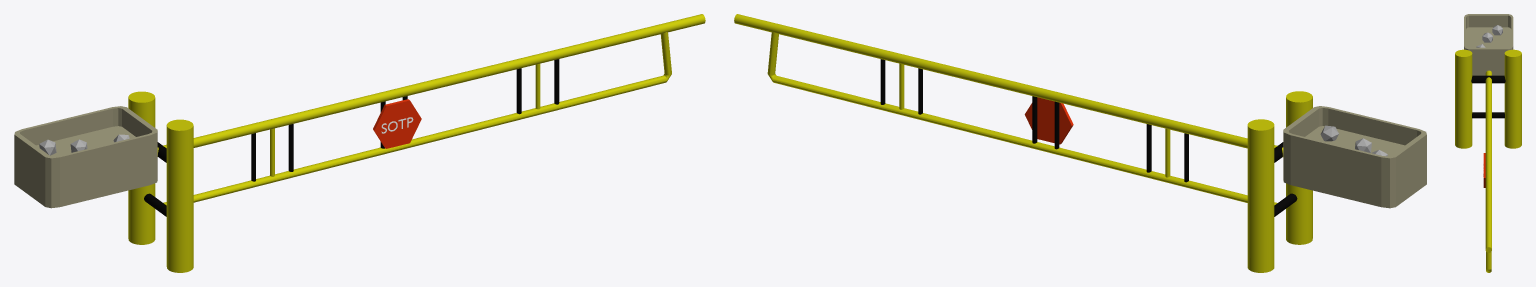
File: Portal-Gang.fbx
The picture shows the model from 3 angles, left to right: view 1: azimuth 30°, elevation 25°; view 2: azimuth 150°, elevation 25°; view 3: azimuth 270°, elevation 25°; orthographic projection. The views are drawn at different scales.
Parts seen in each view (by area): view 1: Cube, Cylinder.003, Cylinder.005, Cylinder, Cylinder.001, Stop-Sign; view 2: Cube, Cylinder.003, Cylinder.005, Cylinder.001, Cylinder, Stop-Sign; view 3: Cube, Cylinder, Cylinder.001, Cylinder.003, Cylinder.004, Cylinder.002, Cylinder.005, Stop-Sign, Kerikil.002, Kerikil.
Boxes of the visible parts, box(x1,y1,x2,y2) form: Cube: box(14, 106, 157, 208); Cylinder.003: box(157, 14, 705, 156); Cylinder.005: box(163, 32, 671, 205); Cylinder: box(166, 119, 193, 272); Cylinder.001: box(128, 91, 155, 244); Stop-Sign: box(373, 99, 421, 148); Cube: box(1283, 106, 1426, 208); Cylinder.003: box(734, 14, 1283, 156); Cylinder.005: box(767, 32, 1277, 205); Cylinder.001: box(1247, 119, 1274, 272); Cylinder: box(1286, 91, 1312, 244); Stop-Sign: box(1024, 97, 1073, 144); Cube: box(1464, 14, 1513, 75); Cylinder: box(1455, 49, 1472, 148); Cylinder.001: box(1504, 49, 1521, 148); Cylinder.003: box(1485, 70, 1491, 252); Cylinder.004: box(1471, 75, 1505, 83); Cylinder.002: box(1472, 112, 1504, 118); Cylinder.005: box(1486, 252, 1491, 272); Stop-Sign: box(1483, 153, 1485, 187); Kerikil.002: box(1492, 25, 1502, 35); Kerikil: box(1482, 32, 1492, 42).
Bounding box in the file's own units: 1795 × 362 × 239.
